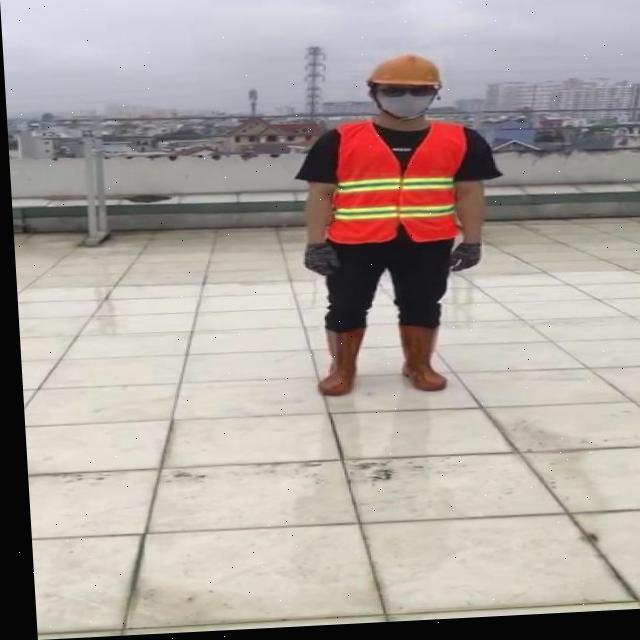Gloves: (300, 243, 339, 280), (445, 246, 479, 276)
Safety-Boot: (311, 328, 364, 400), (395, 325, 444, 396)
Safety-Vest: (319, 119, 471, 251)
